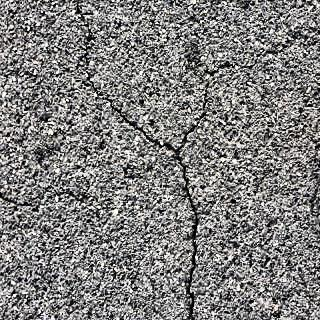crack: (74, 0, 179, 151), (178, 46, 277, 149), (172, 149, 206, 320)
